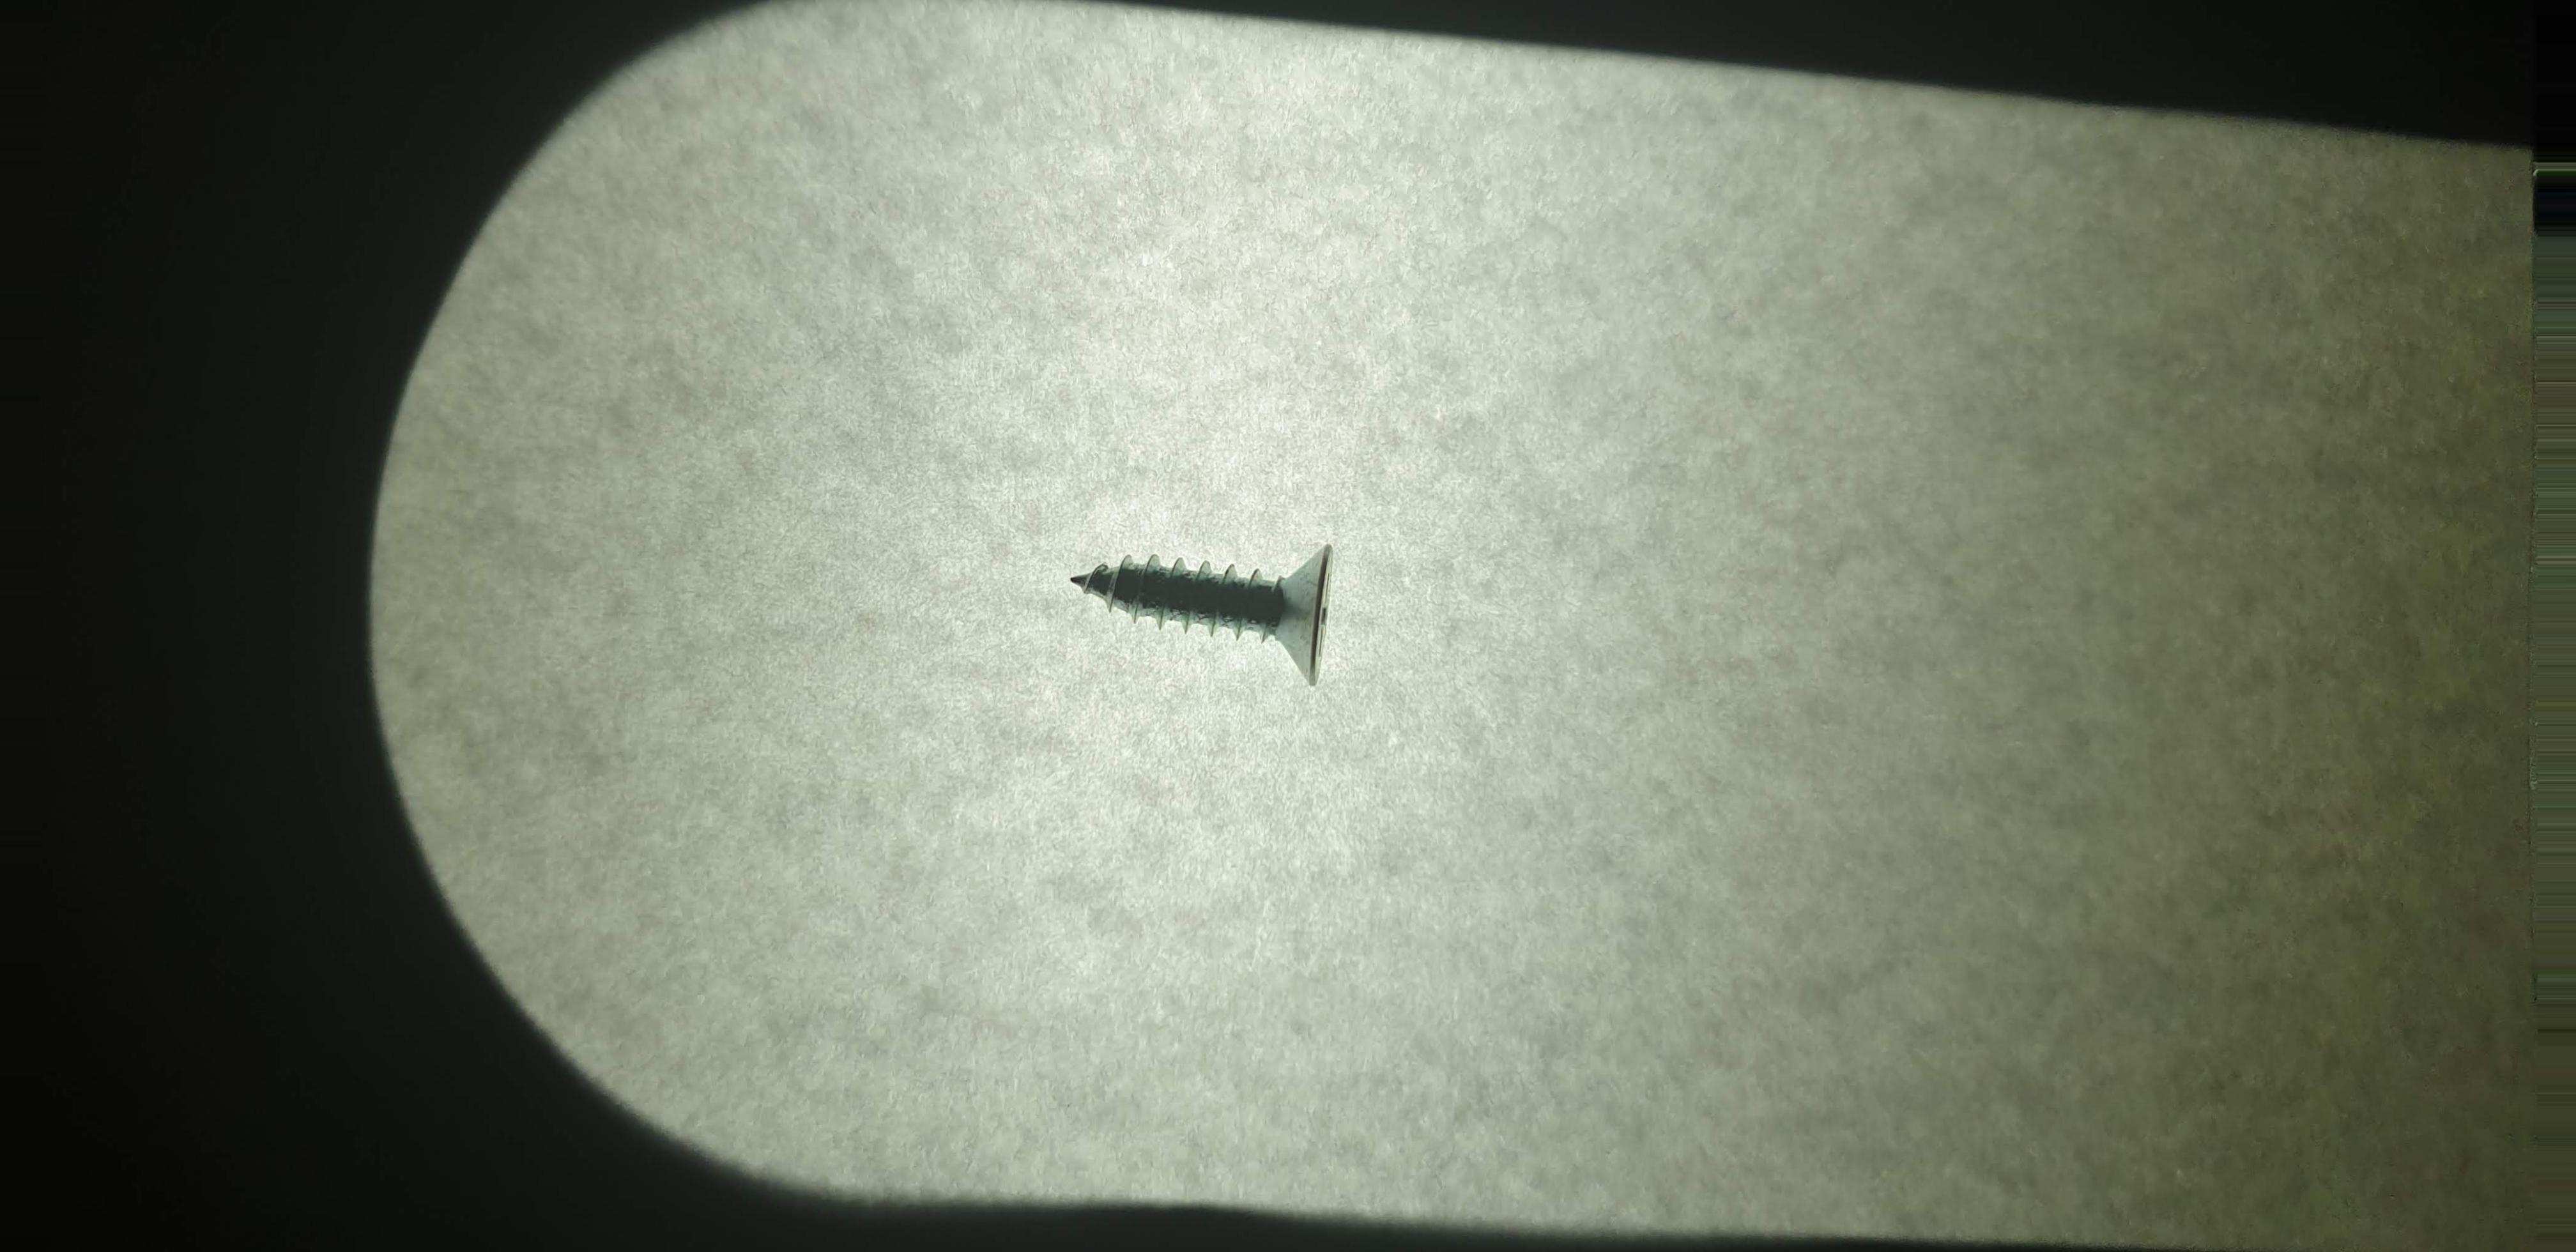S003: (1060, 524, 1385, 697)
